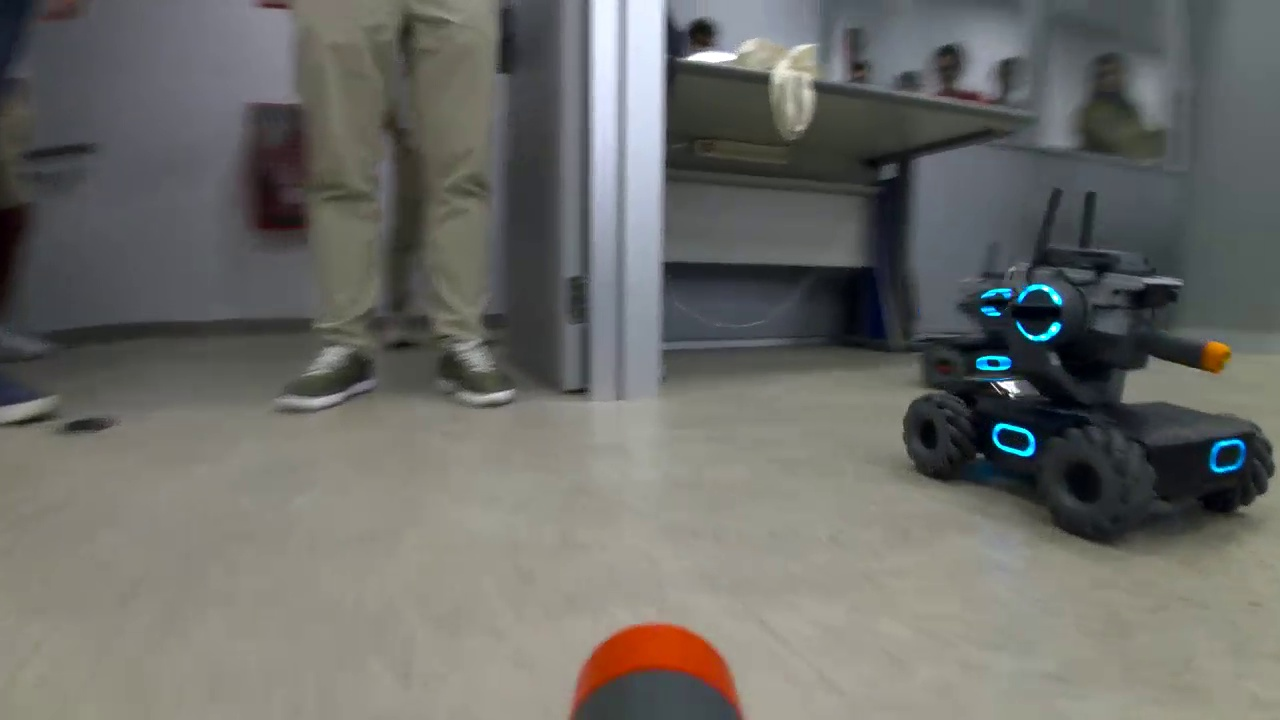robot: (892, 239, 1277, 549)
